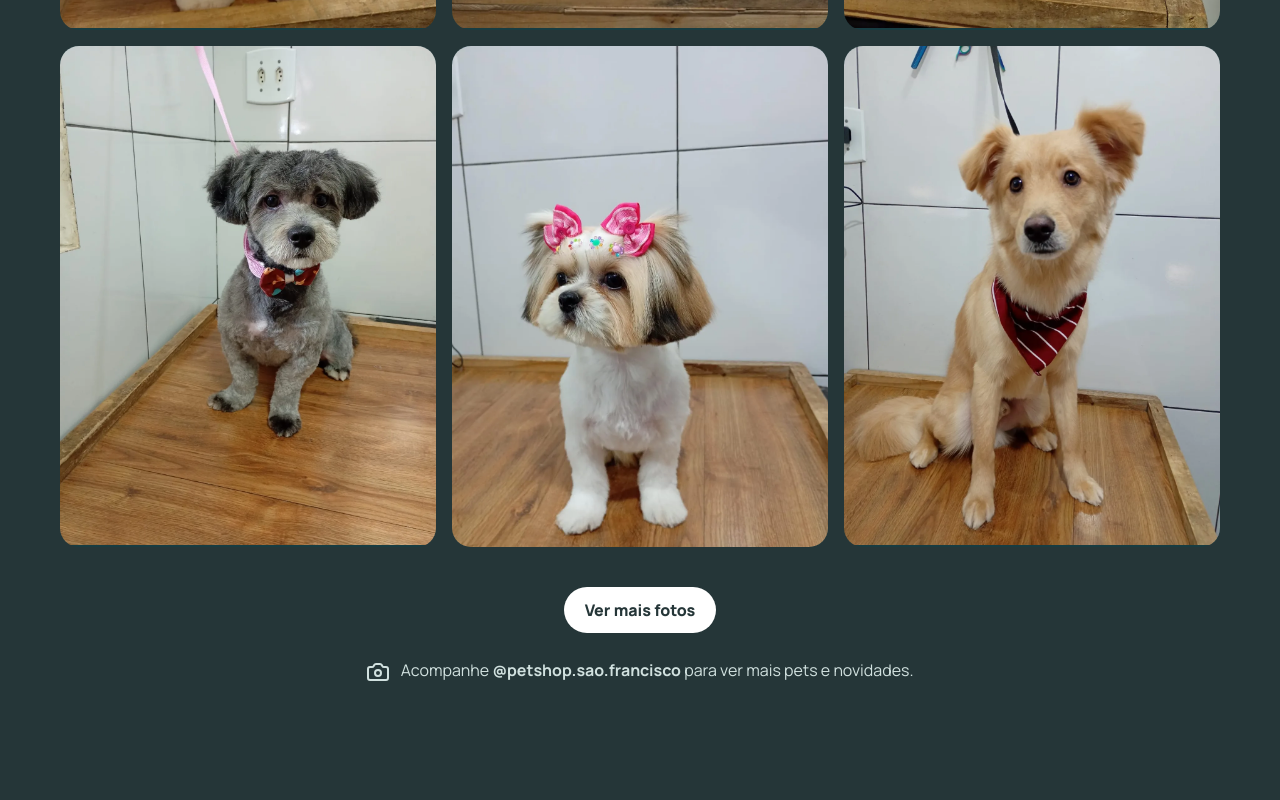
Test: Galeria de fotos reais › expande e recolhe a galeria
This screenshot has width=1280, height=800.
(page scrolled)
Click the button "Ver mais fotos": (640, 610) [564,587,716,633]
(page scrolled)
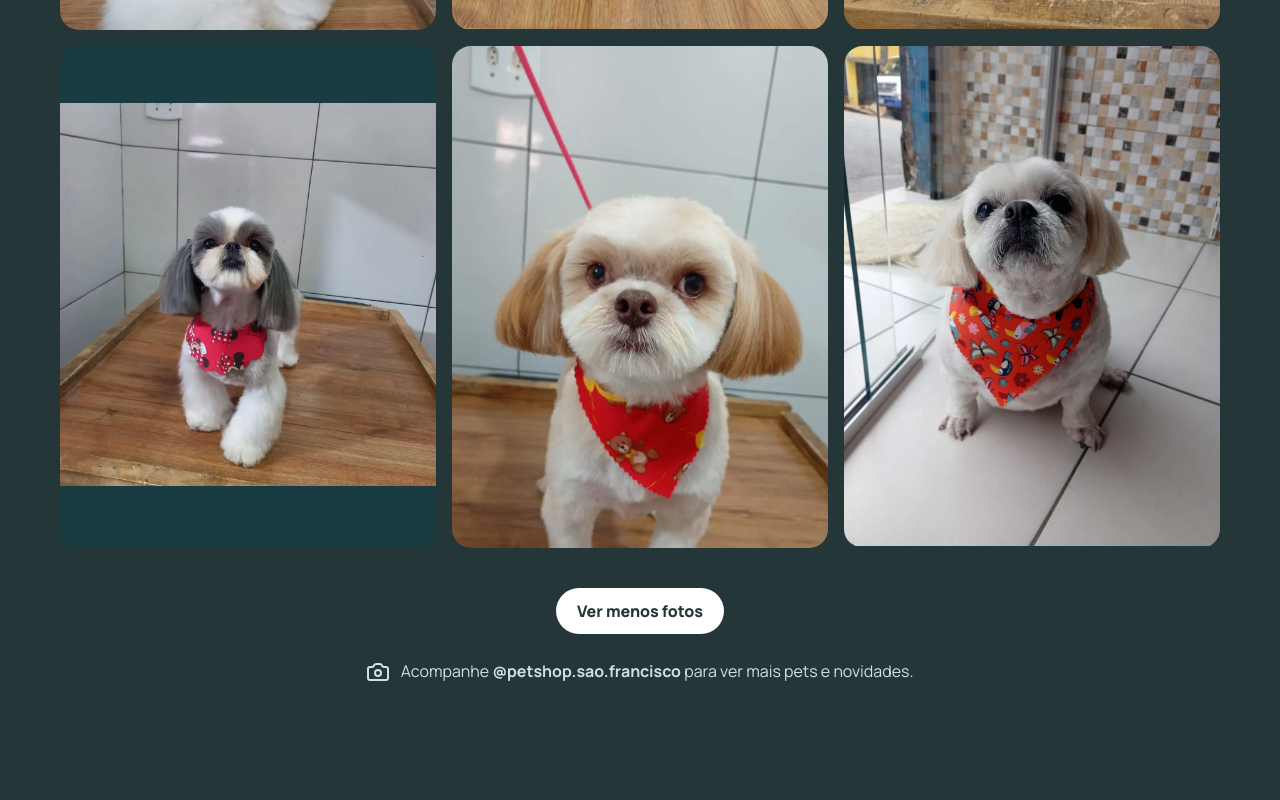
Expected: the button named "Ver mais fotos" is expanded
Expected: the button named "Ver mais fotos" reads "Ver menos fotos"
Click the button named "Ver mais fotos": (640, 611) [556,588,724,634]
(page scrolled)
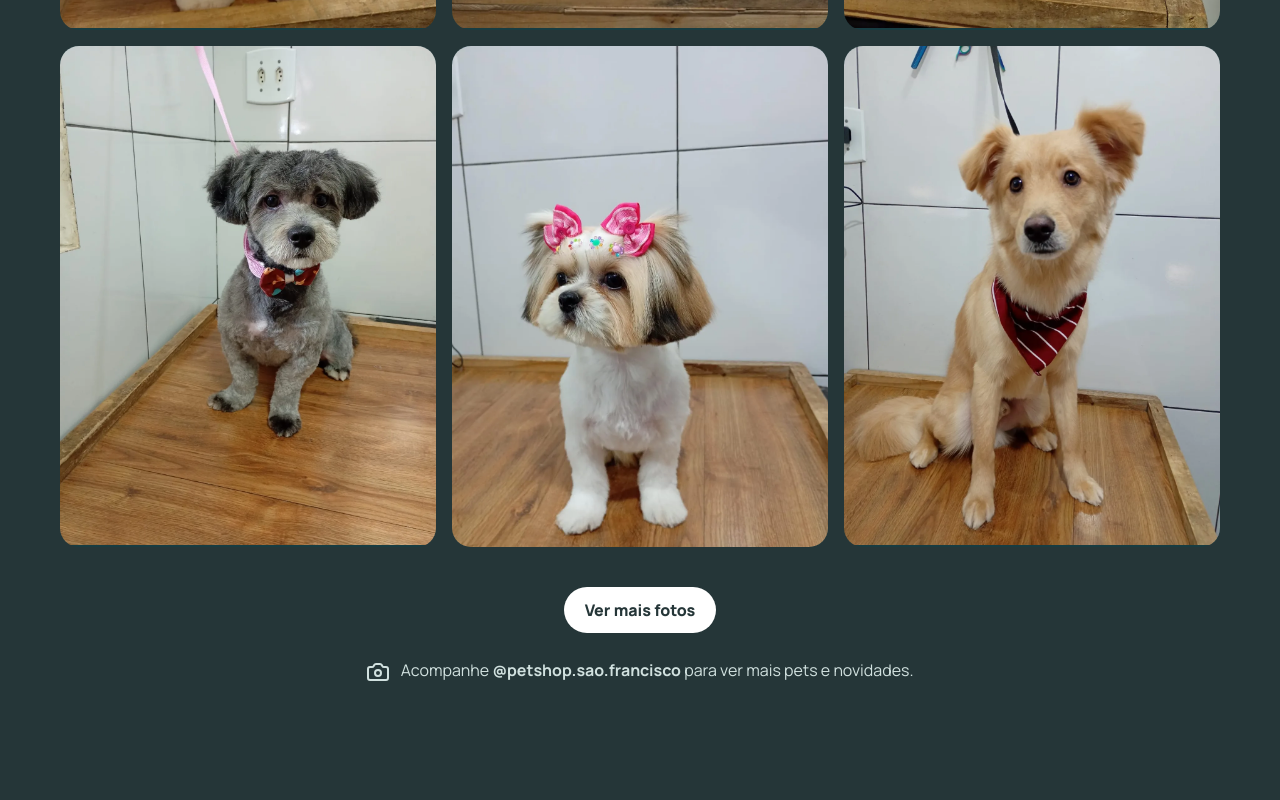
Expected: the button "Ver mais fotos" is collapsed, [564,587,716,633]
